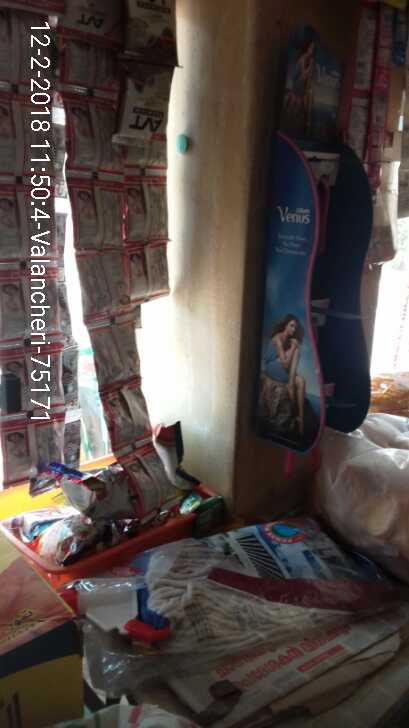reject: (143, 134, 235, 203)
